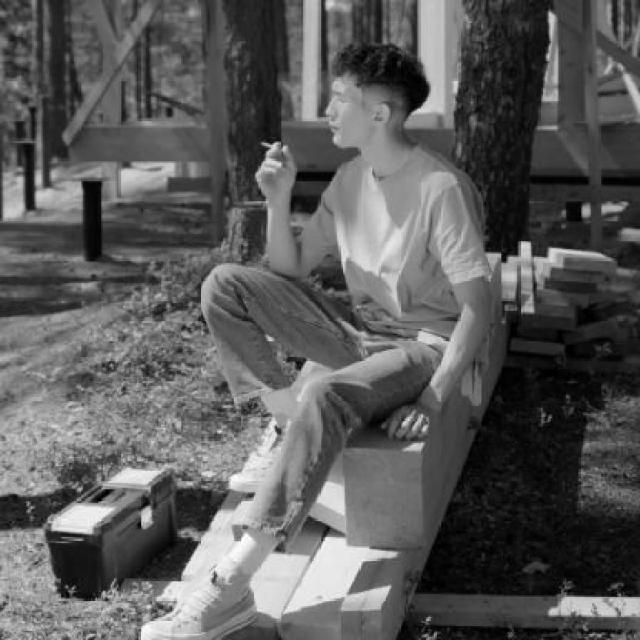cigarette: (247, 135, 296, 171)
